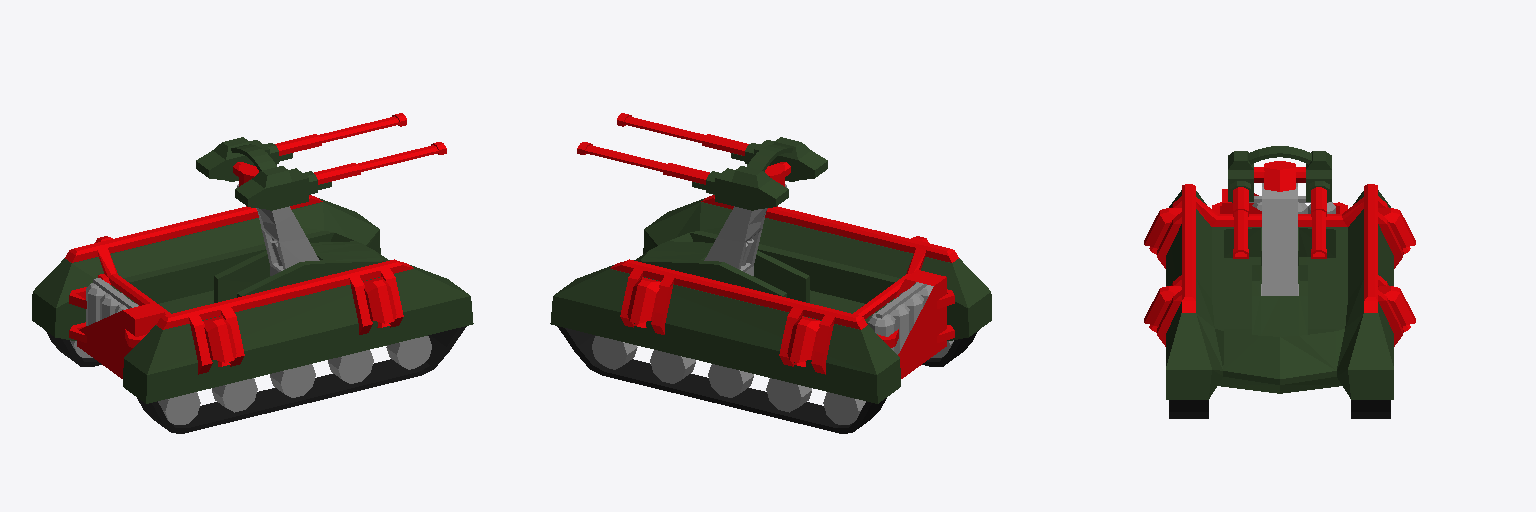
The model's file is ScorpionTank.obj.
3 views of the same model, side by side, from view 1: azimuth 30°, elevation 25°; view 2: azimuth 150°, elevation 25°; view 3: azimuth 270°, elevation 25° (orthographic).
Visible parts, largest first — view 1: Chasis, Propulsion, Tracks, Wheels, TurretBase, H2O2Container, Guns, Bridge, PropulsionUnits, H2O2; view 2: Chasis, Propulsion, Tracks, Wheels, TurretBase, H2O2Container, Guns, Bridge, PropulsionUnits, H2O2; view 3: Chasis, Propulsion, Bridge, PropulsionUnits, TurretBase, Guns, Tracks, TurretRotator.
Boxes of the visible parts, <box> form: Chasis: <box>32,198,473,403</box>; Propulsion: <box>65,195,413,374</box>; Tracks: <box>45,326,466,433</box>; Wheels: <box>70,336,431,424</box>; TurretBase: <box>196,137,331,210</box>; H2O2Container: <box>77,303,164,378</box>; Guns: <box>275,113,446,184</box>; Bridge: <box>237,184,319,275</box>; PropulsionUnits: <box>95,236,396,366</box>; H2O2: <box>86,278,138,325</box>; Chasis: <box>550,198,991,403</box>; Propulsion: <box>610,195,958,374</box>; Tracks: <box>557,326,978,433</box>; Wheels: <box>592,336,953,424</box>; TurretBase: <box>692,137,827,210</box>; H2O2Container: <box>895,270,946,378</box>; Guns: <box>577,113,748,184</box>; Bridge: <box>704,184,786,275</box>; PropulsionUnits: <box>627,236,928,366</box>; H2O2: <box>868,282,933,354</box>; Chasis: <box>1166,190,1393,399</box>; Propulsion: <box>1157,184,1402,346</box>; Bridge: <box>1261,183,1298,295</box>; PropulsionUnits: <box>1144,208,1415,332</box>; TurretBase: <box>1228,146,1331,202</box>; Guns: <box>1233,187,1326,258</box>; Tracks: <box>1169,400,1390,418</box>; TurretRotator: <box>1254,161,1305,191</box>.
Bounding box in the file's own units: 14.75 × 8.94 × 10.39.